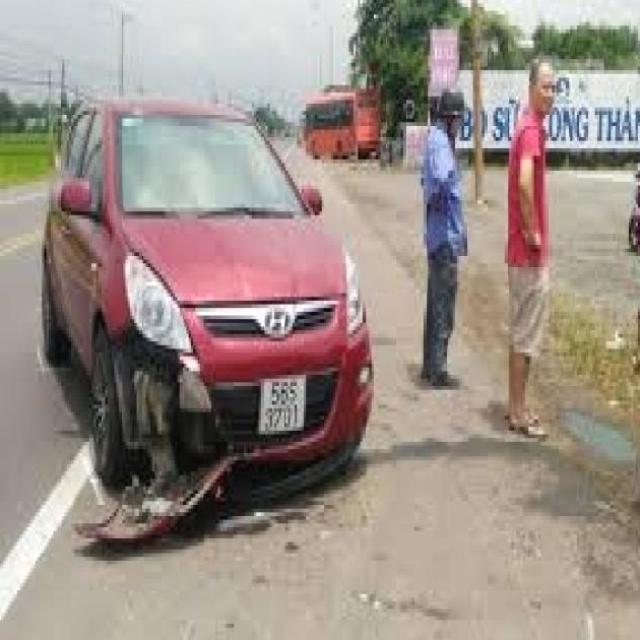accident: (60, 253, 382, 567)
